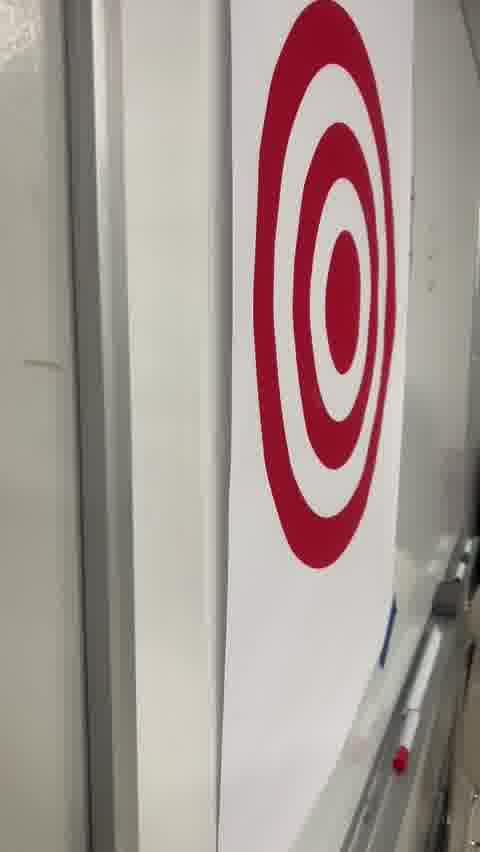target_red: (253, 0, 401, 570)
